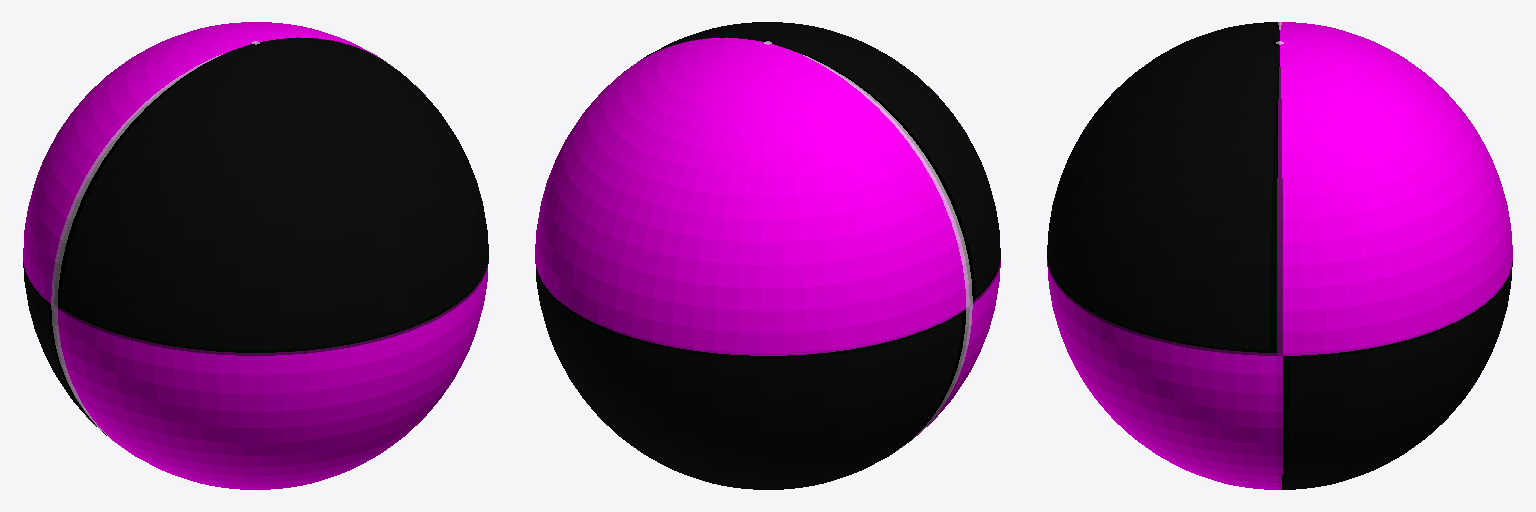
3 renders of one model, left to right at view 1: azimuth 30°, elevation 25°; view 2: azimuth 150°, elevation 25°; view 3: azimuth 270°, elevation 25°, orthographic.
Visible parts, largest first — view 1: Sphere; view 2: Sphere; view 3: Sphere.
Boxes of the visible parts, x1=… form: Sphere: x1=23, y1=22, x2=488, y2=489; Sphere: x1=535, y1=22, x2=1000, y2=489; Sphere: x1=1047, y1=22, x2=1512, y2=489.
Size of the model in its own units: 0.9872 by 0.9976 by 0.9872.
Materials: 1 (1 with a texture image).